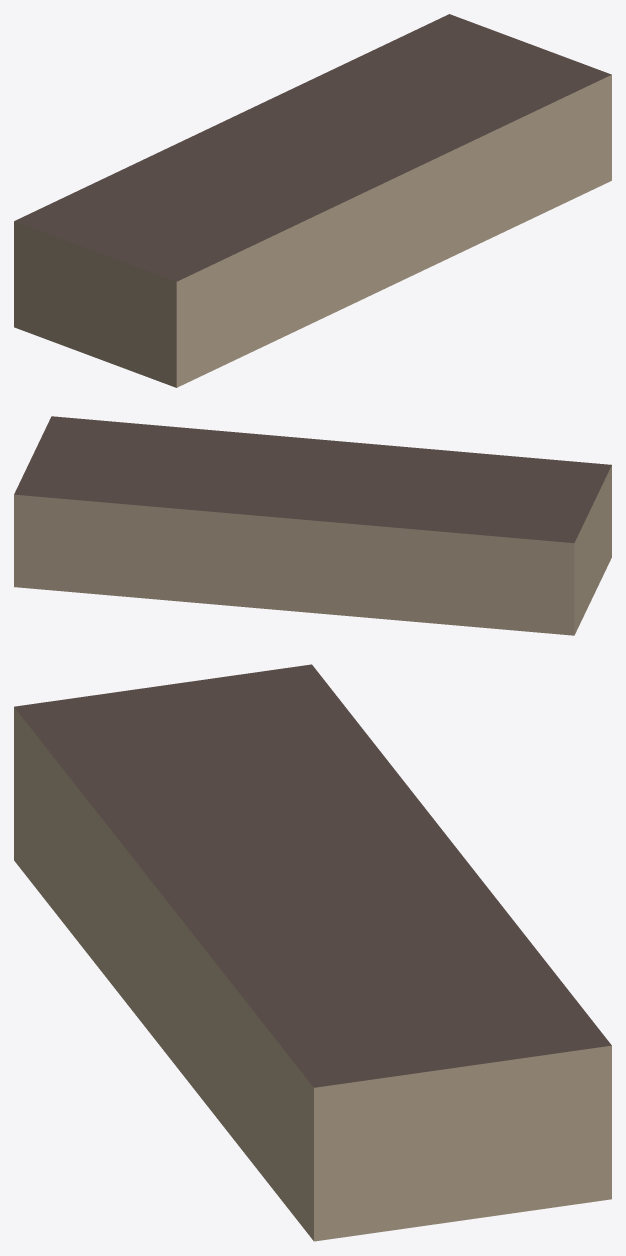
The picture shows the model from 3 angles, top to bottom: view 1: azimuth 30°, elevation 25°; view 2: azimuth 150°, elevation 25°; view 3: azimuth 270°, elevation 25°; orthographic projection. The views are drawn at different scales.
Parts seen in each view (by area): view 1: HP-w1544735757; view 2: HP-w1544735757; view 3: HP-w1544735757.
Part boxes in pixels (left/top/right/bottom): HP-w1544735757: left=14, top=14, right=611, bottom=387; HP-w1544735757: left=14, top=416, right=611, bottom=635; HP-w1544735757: left=14, top=664, right=611, bottom=1241.
Size of the model in its own units: 53.17 by 9 by 31.73.
